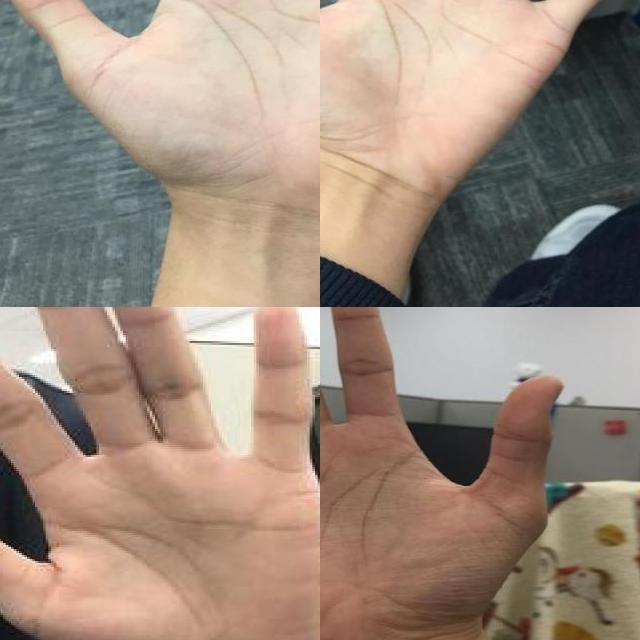no-gloves: (0, 307, 320, 640), (320, 307, 566, 640), (0, 0, 320, 239), (320, 0, 640, 201)
